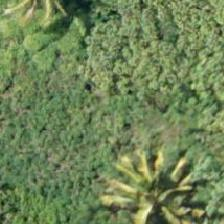coconut_tree: (105, 146, 195, 223)
